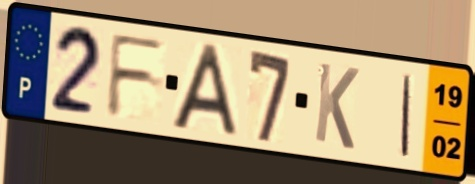2: (45, 21, 107, 121)
7: (248, 45, 292, 145)
A: (167, 41, 240, 140)
F: (104, 31, 169, 120)
I: (397, 71, 415, 161)
K: (311, 58, 362, 153)
